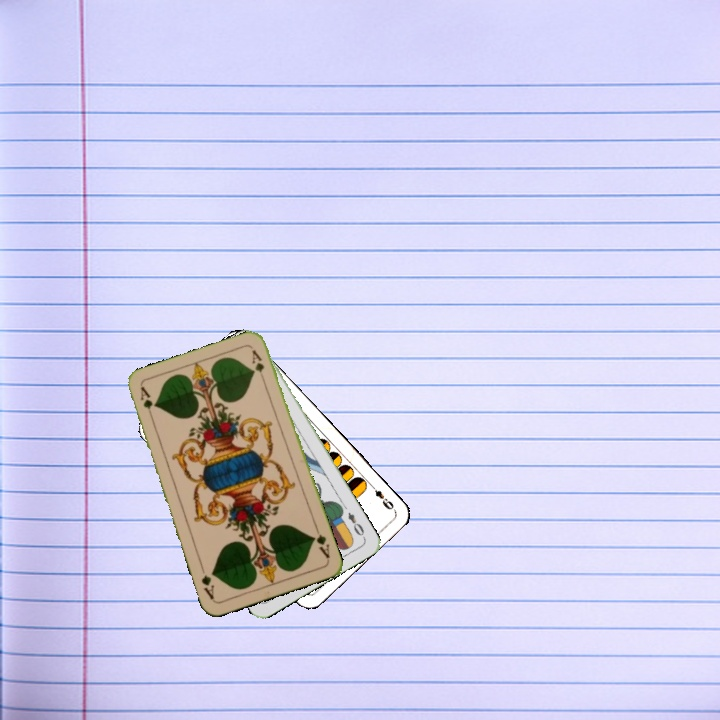E9: (366, 480, 397, 513)
EO: (344, 508, 368, 541)
GA: (308, 522, 333, 561), (136, 383, 156, 423)
